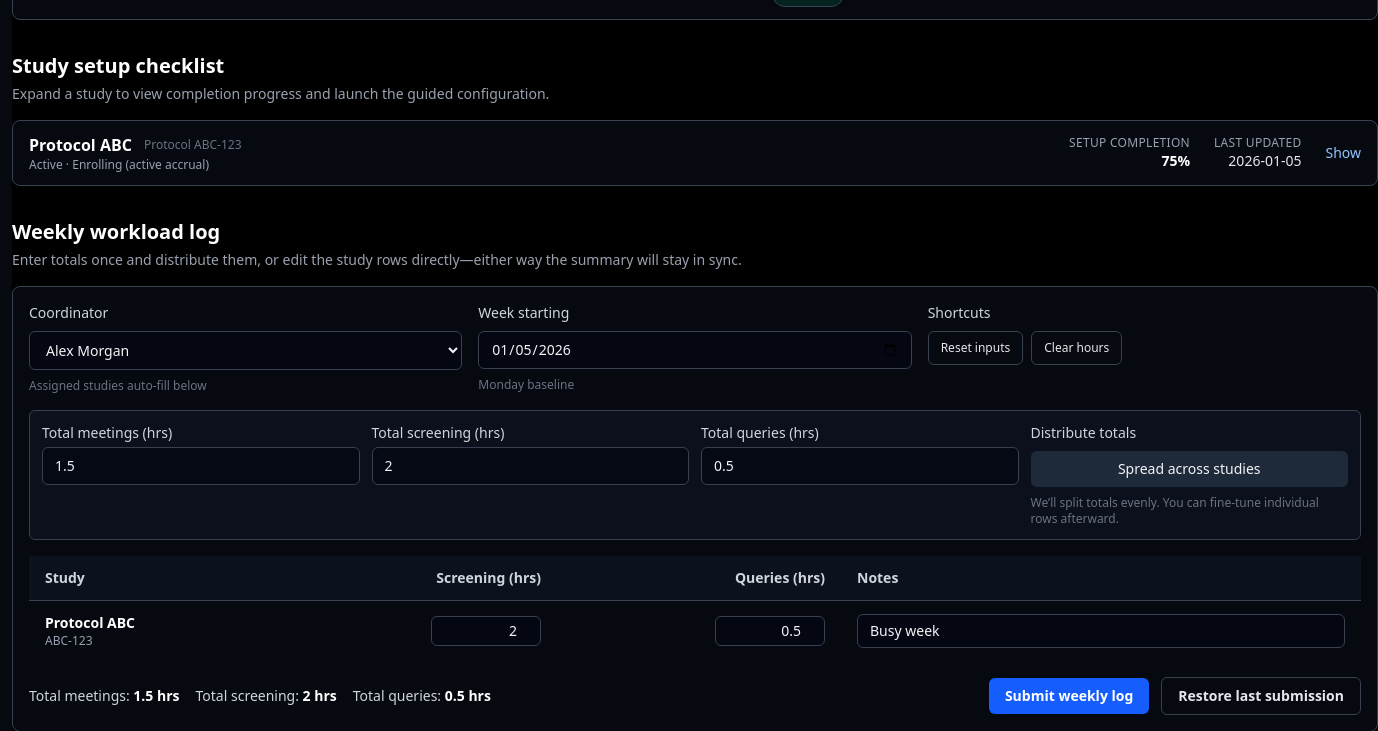
WorkloadEngineView › lets coordinators distribute total hours evenly across assigned studies
(page scrolled)
Expected: the heading "Weekly workload log" is shown, [12,218,220,245]
Expected: the number field labelled "Total meetings (hrs)" is shown, [42,447,360,485]
Click the button "Clear hours" at (1077,348), box [1031,331,1122,365]
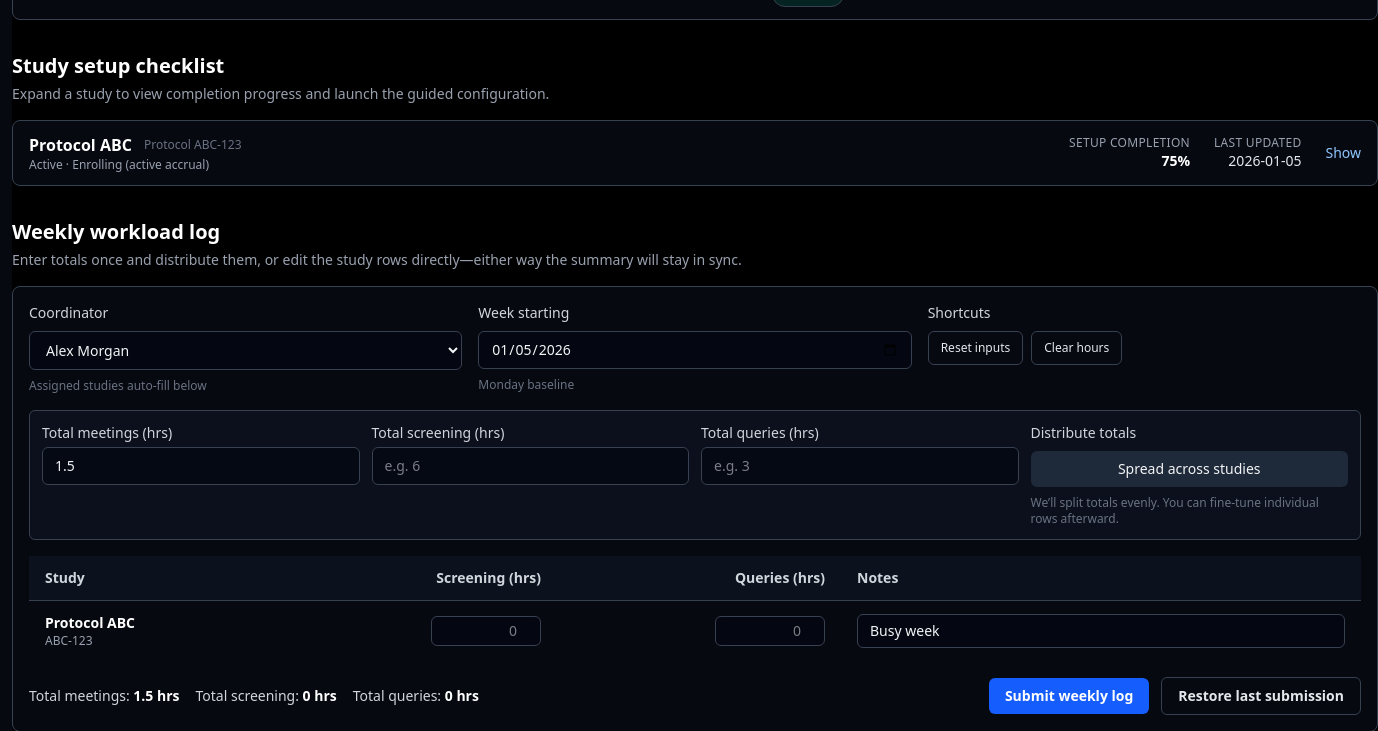
Replace the text in the number field labelled "Total meetings (hrs)" with "4.5" at (201,466), box [42,447,360,485]
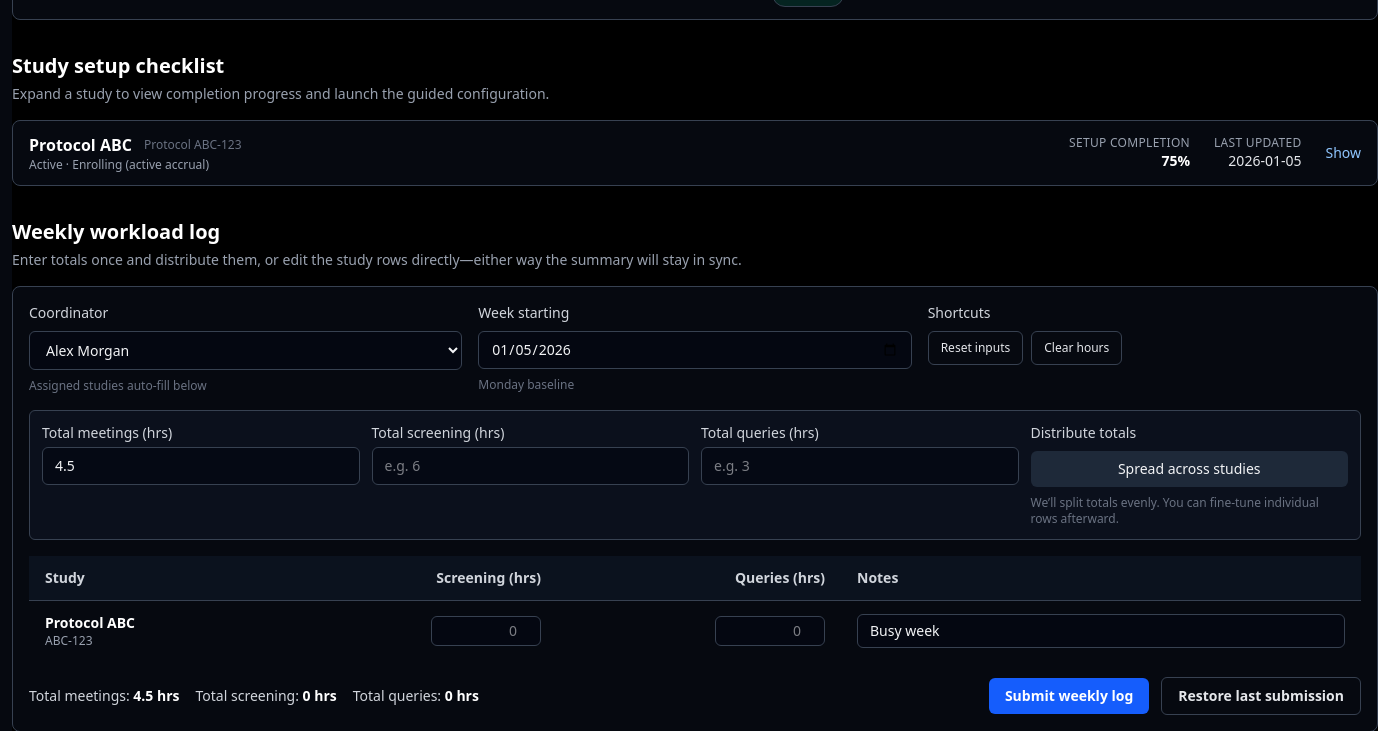
Type "6" into the number field labelled "Total screening (hrs)" at (530,466), box [372,447,689,485]
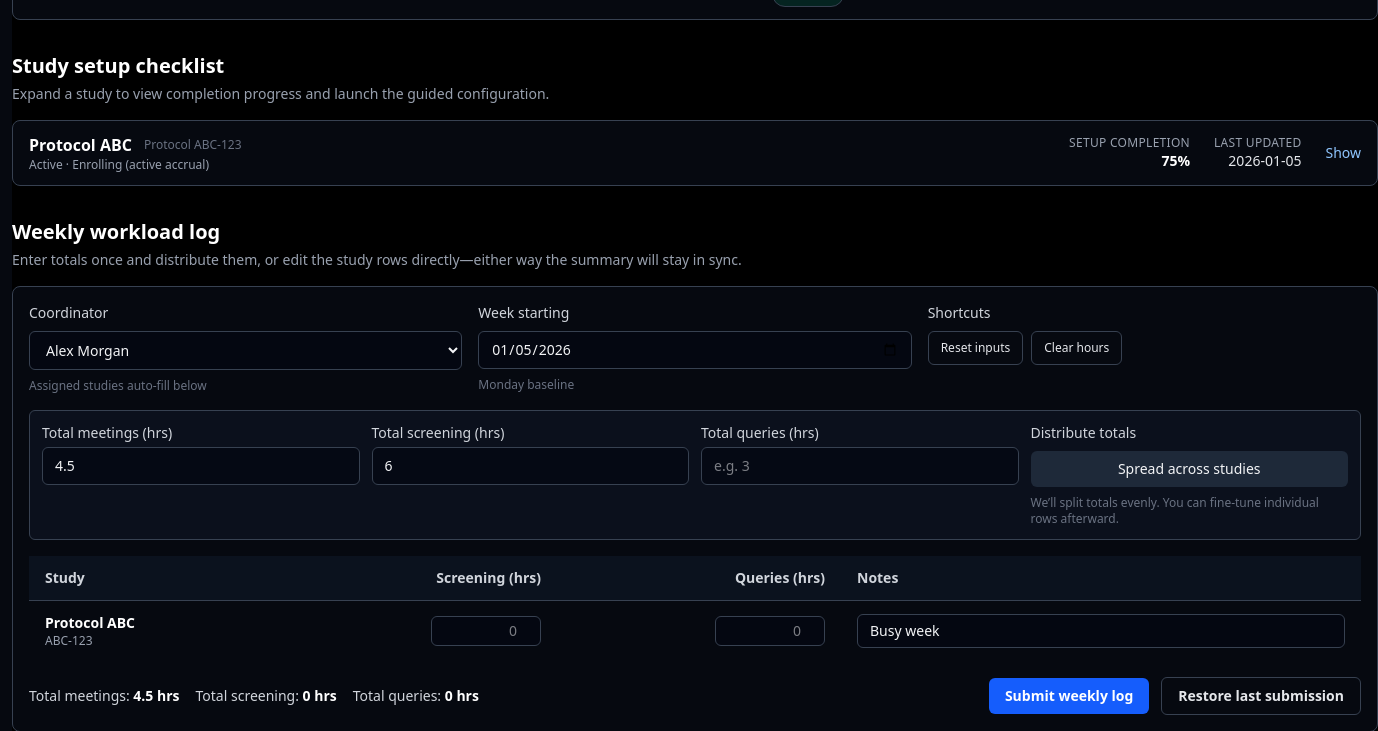
Type "2.5" into the number field labelled "Total queries (hrs)" at (860,466), box [701,447,1018,485]
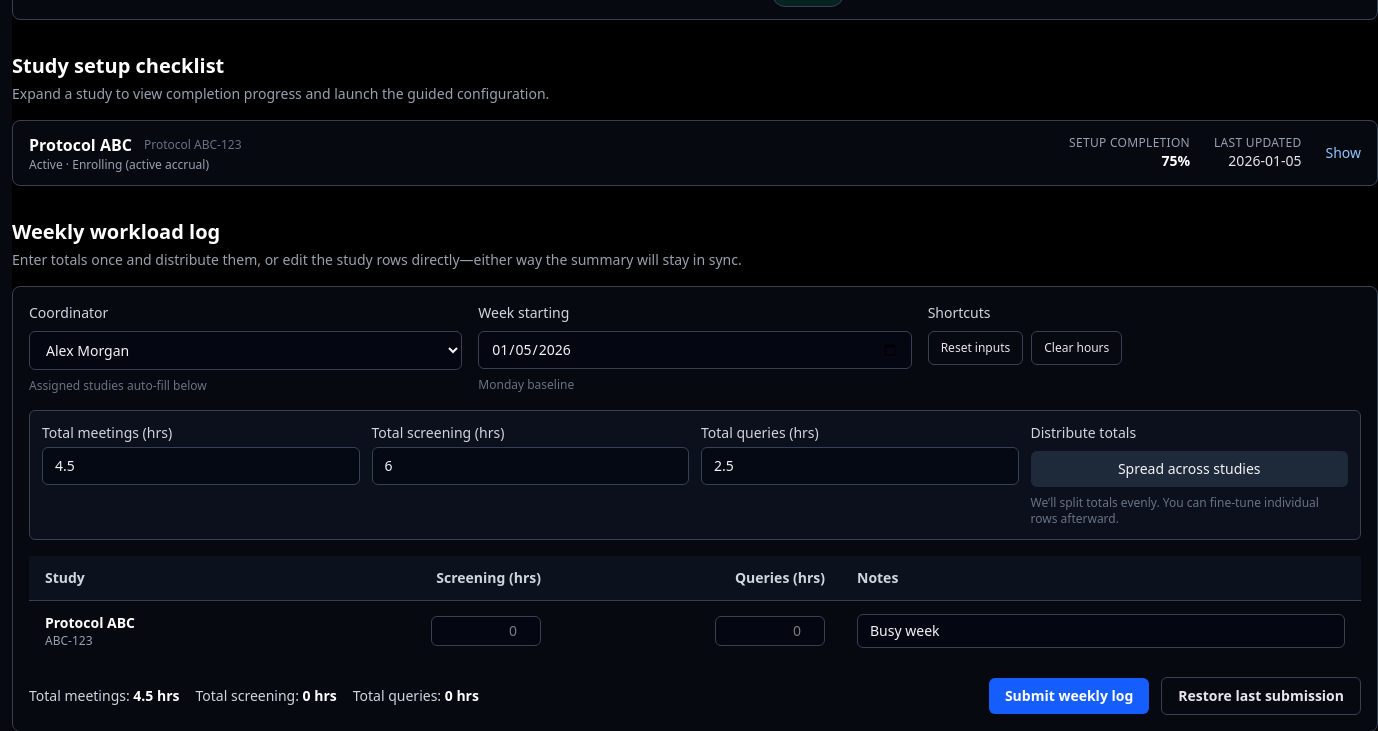
Click the button "Spread across studies" at (1189,469), box [1030,451,1348,487]
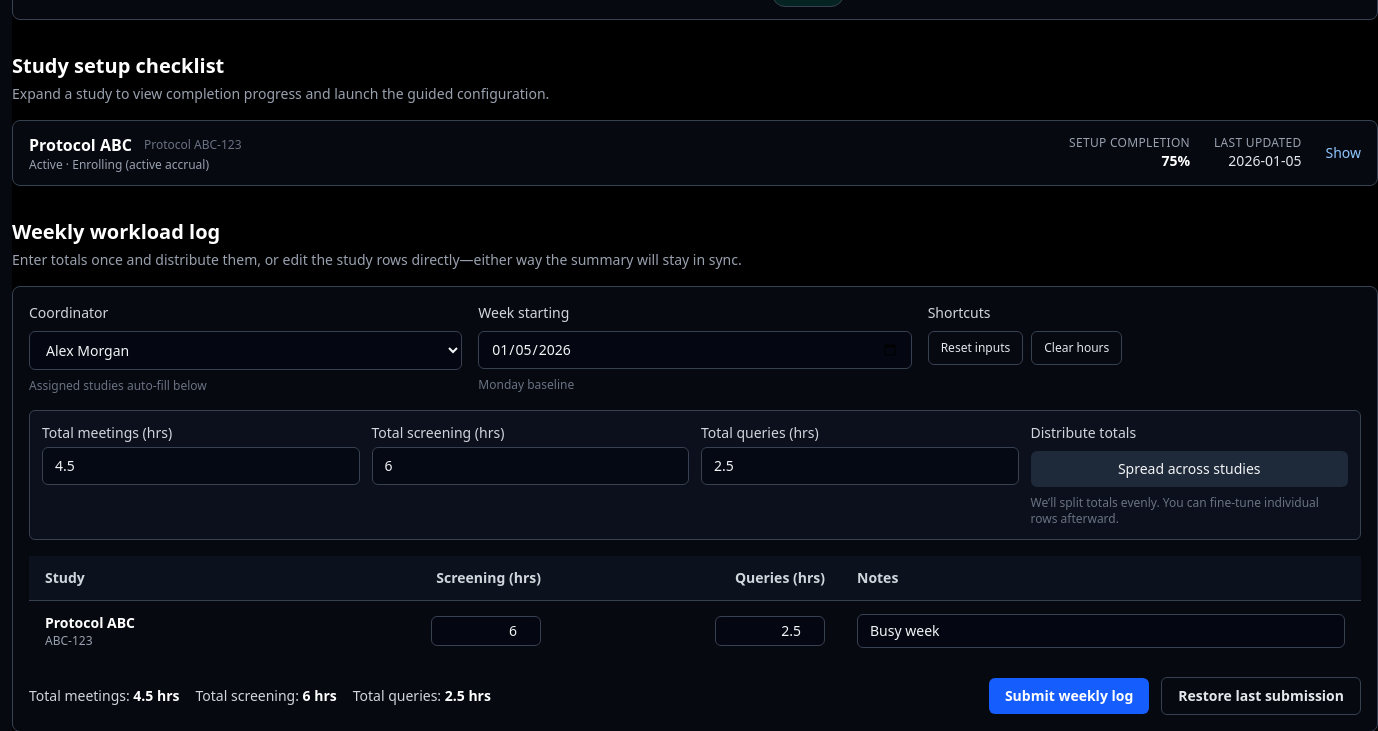
Expected: the table that starts with "Study" is shown, [29,556,1361,661]
Expected: the 4th number field holds "6", [431,616,541,646]
Expected: the 5th number field holds "2.5", [715,616,825,646]
